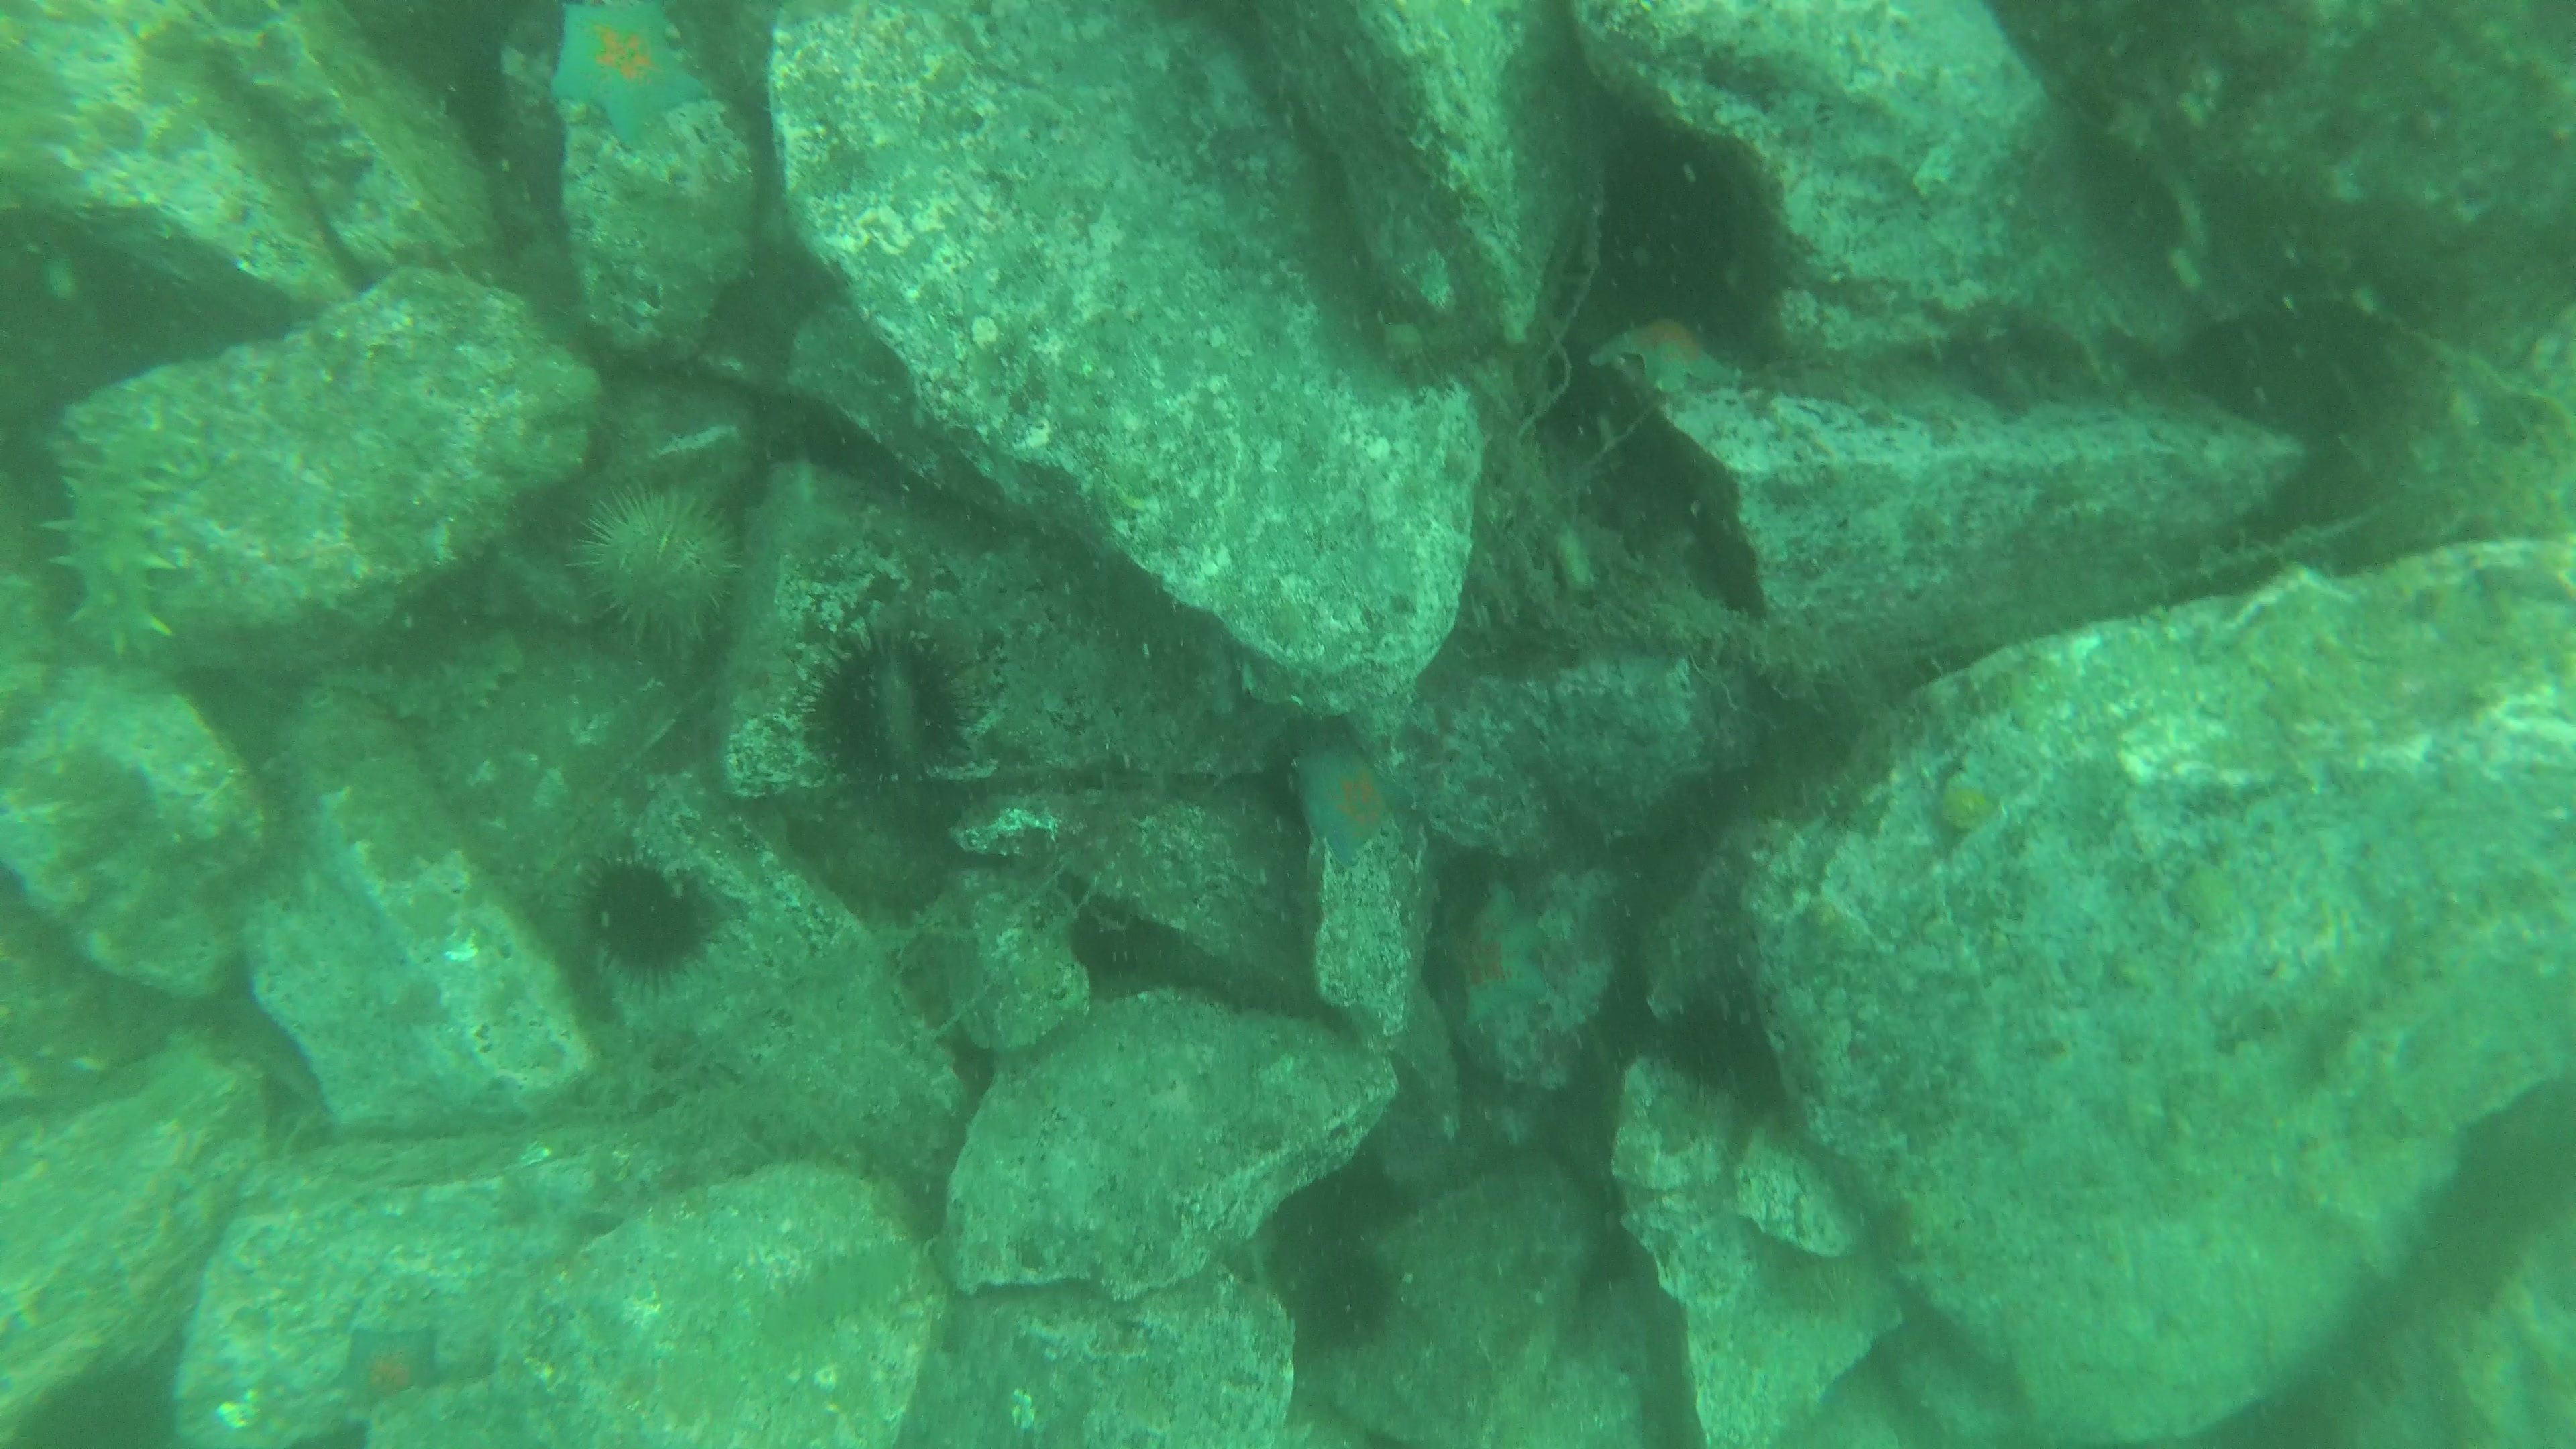echinus: (552, 465, 754, 639), (786, 621, 978, 800), (575, 856, 738, 994)
holothurian: (50, 419, 184, 665), (754, 1246, 939, 1366), (322, 628, 520, 736)
starfish: (545, 0, 720, 149), (1444, 878, 1566, 1060), (1284, 741, 1410, 885), (1583, 311, 1776, 402), (326, 1327, 442, 1419)
